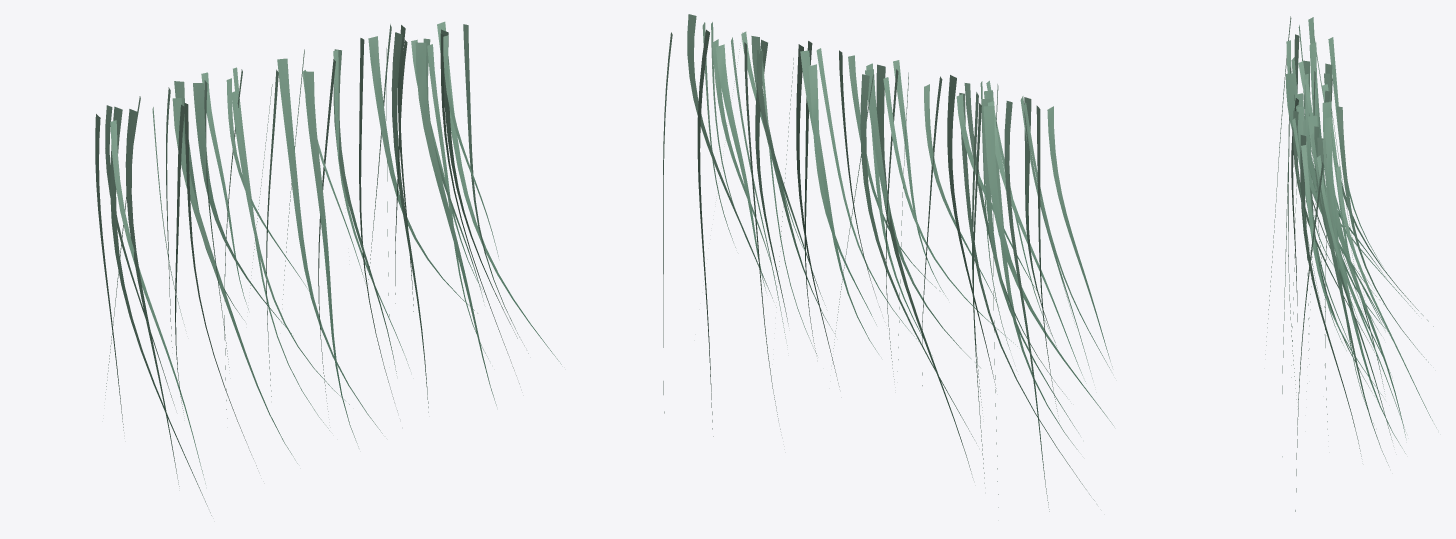
The model's file is mesh-plant-042-teardrop-veil_LOD0.glb.
3 renders of one model, left to right at view 1: azimuth 30°, elevation 25°; view 2: azimuth 150°, elevation 25°; view 3: azimuth 270°, elevation 25°, orthographic. The views are drawn at different scales.
Parts seen in each view (by area): view 1: geometry_0; view 2: geometry_0; view 3: geometry_0.
Part boxes in pixels (bbox=[...]): geometry_0: bbox=[95, 21, 561, 515]; geometry_0: bbox=[663, 14, 1113, 511]; geometry_0: bbox=[1265, 16, 1436, 511].
Size of the model in its own units: 3.24 by 2.36 by 1.83.
